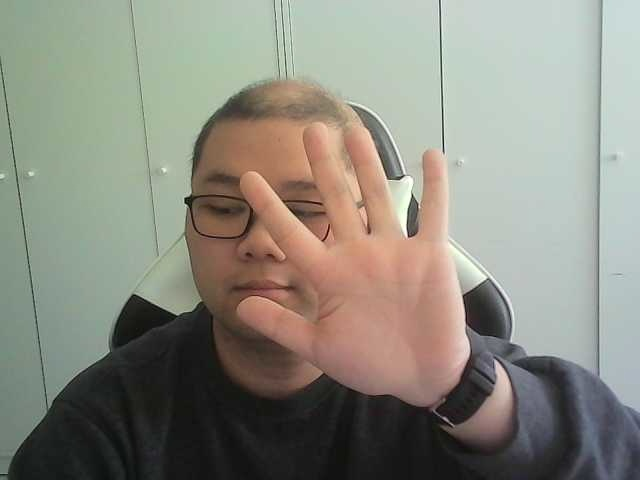Five: (236, 121, 467, 396)
